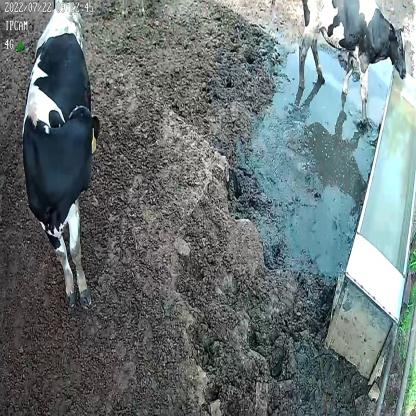cow: (21, 0, 98, 309), (300, 0, 408, 126)
